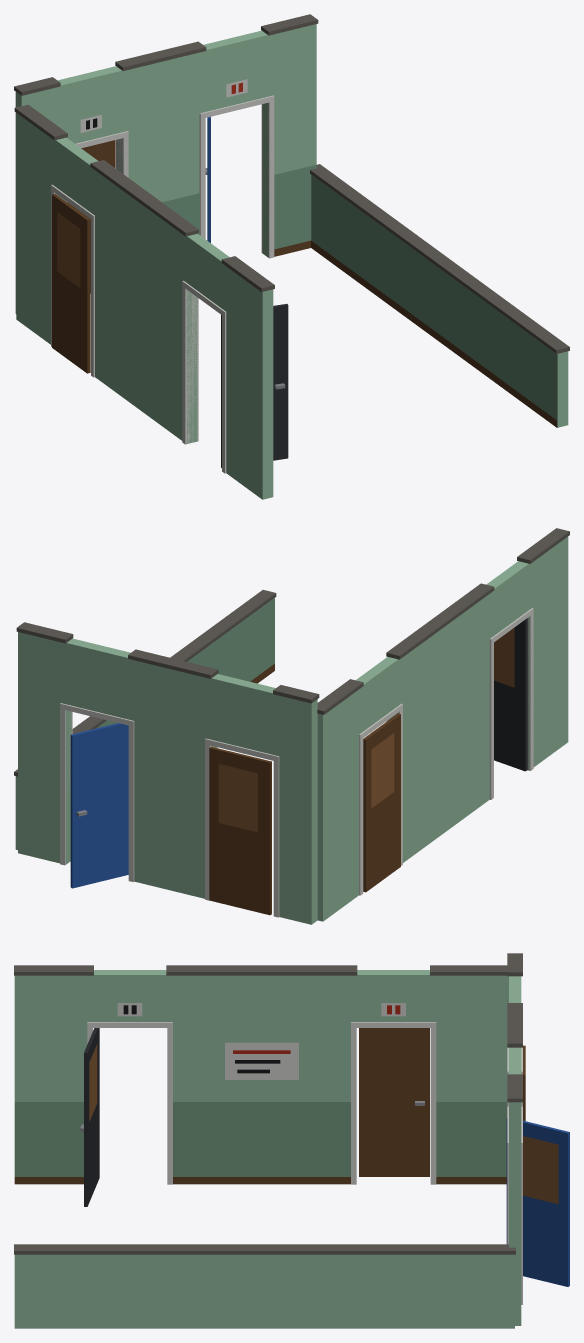
Rendered from bld_home-hostel-yard.glb.
3 renders of one model, top to bottom at view 1: azimuth 30°, elevation 25°; view 2: azimuth 150°, elevation 25°; view 3: azimuth 270°, elevation 25°, orthographic.
Parts seen in each view (by area): view 1: body; view 2: body; view 3: body.
Part boxes in pixels (box(x1,y1,x2,y2)): body: box(14, 14, 569, 499); body: box(14, 528, 569, 924); body: box(14, 953, 569, 1328).
Bounding box in the file's own units: 4.37 × 3.05 × 6.75.
